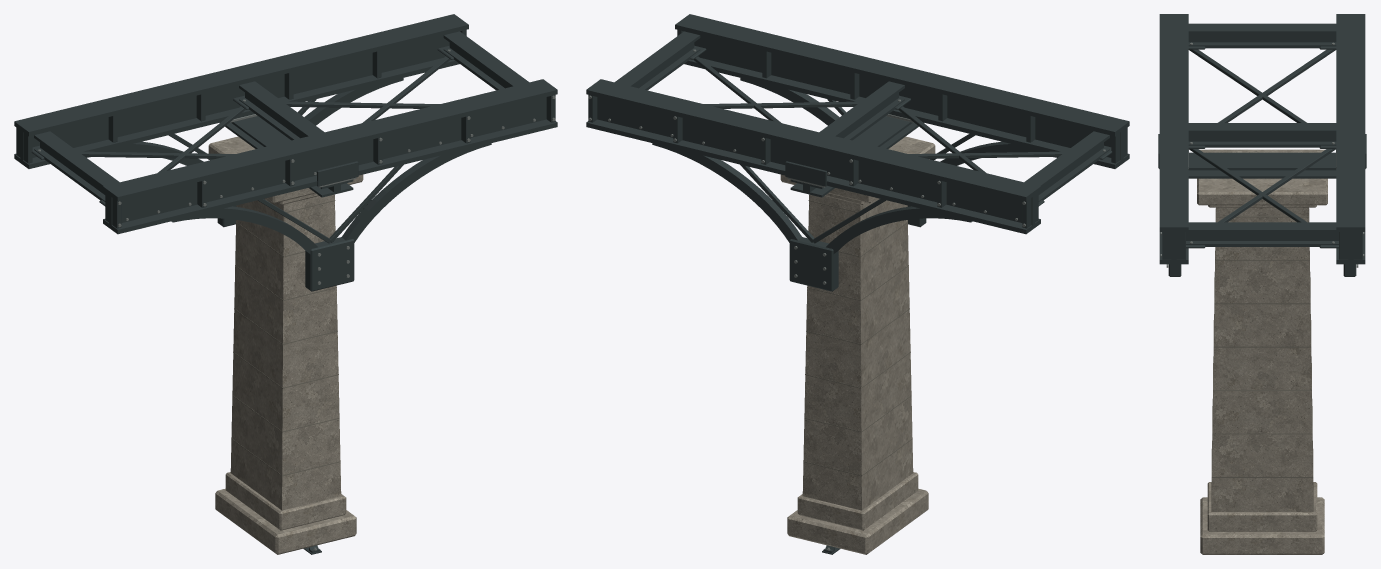
File: railway-kit-v1.glb
The picture shows the model from 3 angles, left to right: view 1: azimuth 30°, elevation 25°; view 2: azimuth 150°, elevation 25°; view 3: azimuth 270°, elevation 25°; orthographic projection.
Parts seen in each view (by area): view 1: Rail_Span_Blackened cast iron, Rail_Pier_Limestone trim, Rail_Pier_Blackened cast iron, Rail_Pier_Stone recessed joint; view 2: Rail_Span_Blackened cast iron, Rail_Pier_Limestone trim, Rail_Pier_Blackened cast iron, Rail_Pier_Stone recessed joint; view 3: Rail_Pier_Limestone trim, Rail_Span_Blackened cast iron, Rail_Pier_Blackened cast iron, Rail_Pier_Stone recessed joint.
Part boxes in pixels (x1=…): Rail_Span_Blackened cast iron: x1=14, y1=14, x2=557, y2=234; Rail_Pier_Limestone trim: x1=208, y1=136, x2=363, y2=554; Rail_Pier_Blackened cast iron: x1=86, y1=78, x2=491, y2=291; Rail_Pier_Stone recessed joint: x1=231, y1=198, x2=340, y2=476; Rail_Span_Blackened cast iron: x1=586, y1=14, x2=1129, y2=234; Rail_Pier_Limestone trim: x1=780, y1=136, x2=935, y2=554; Rail_Pier_Blackened cast iron: x1=652, y1=78, x2=1057, y2=291; Rail_Pier_Stone recessed joint: x1=803, y1=198, x2=912, y2=476; Rail_Pier_Limestone trim: x1=1197, y1=149, x2=1327, y2=554; Rail_Span_Blackened cast iron: x1=1159, y1=14, x2=1365, y2=264; Rail_Pier_Blackened cast iron: x1=1158, y1=134, x2=1366, y2=276; Rail_Pier_Stone recessed joint: x1=1211, y1=216, x2=1313, y2=477.
Bounding box in the file's own units: 5.2 × 4.8 × 2.14.
Materials: 4 (1 with a texture image).
